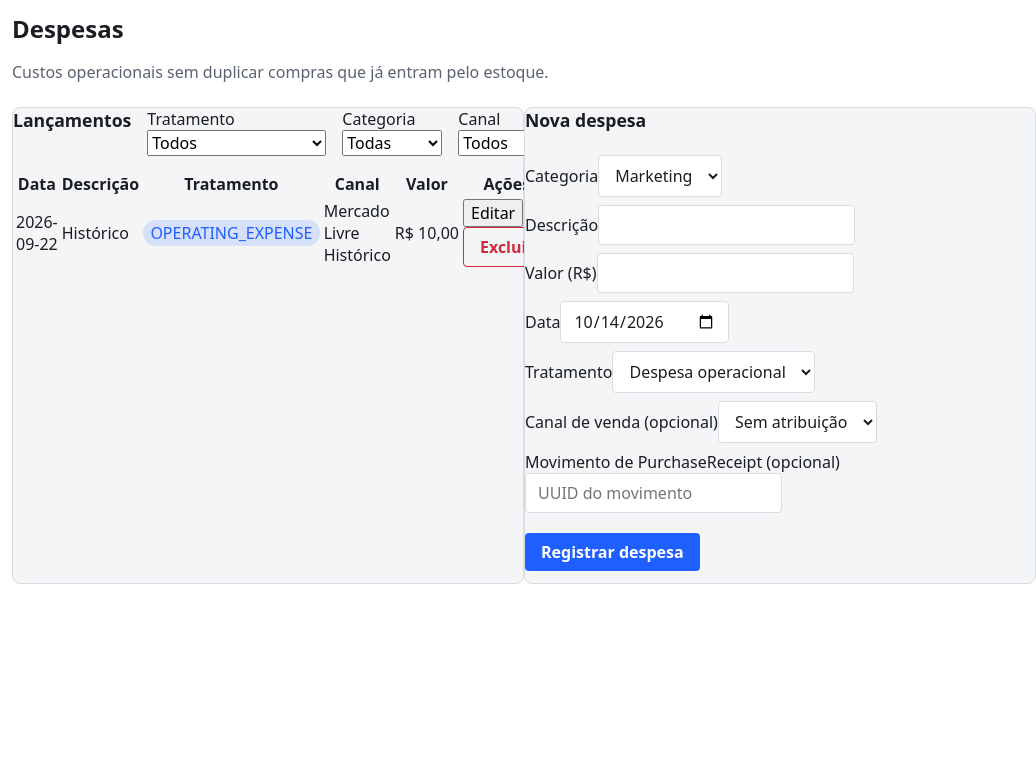
Scenario: edits an expense with its current version and refreshes the canonical row
Check: the text "Histórico" is shown, box [61,198,140,268]
Click the button "Editar" at {"x": 493, "y": 213}, box [463,199,523,227]
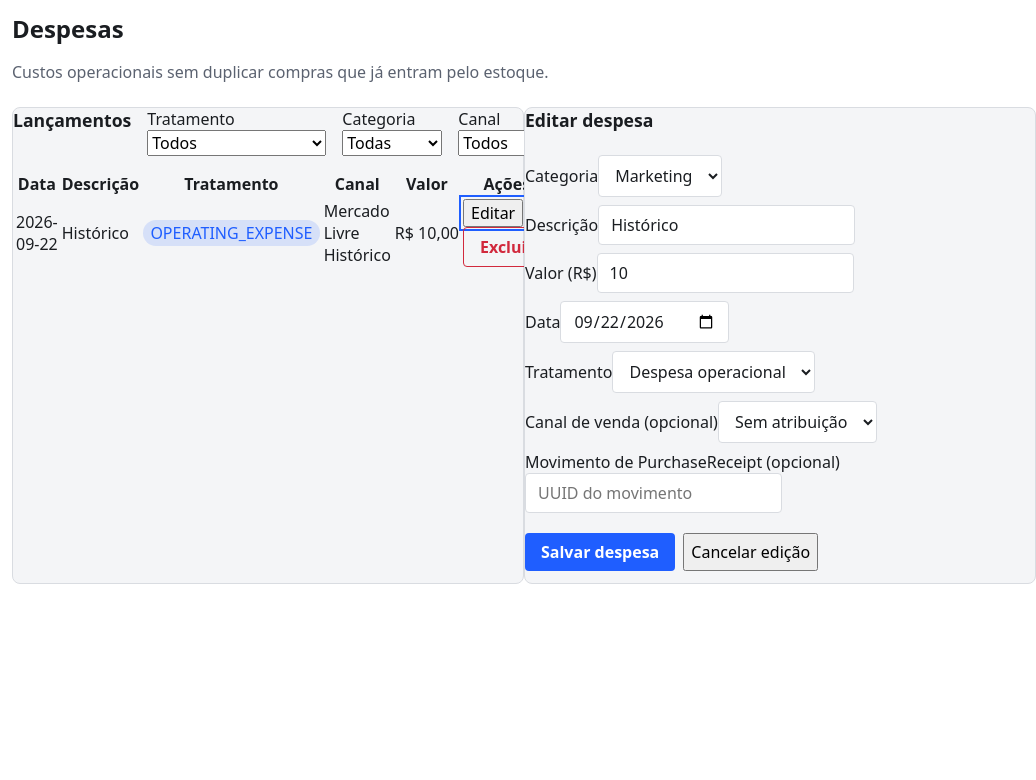
Replace the text in the field labelled "Descrição" with "Histórico corrigido" at {"x": 727, "y": 225}, box [598,205,855,245]
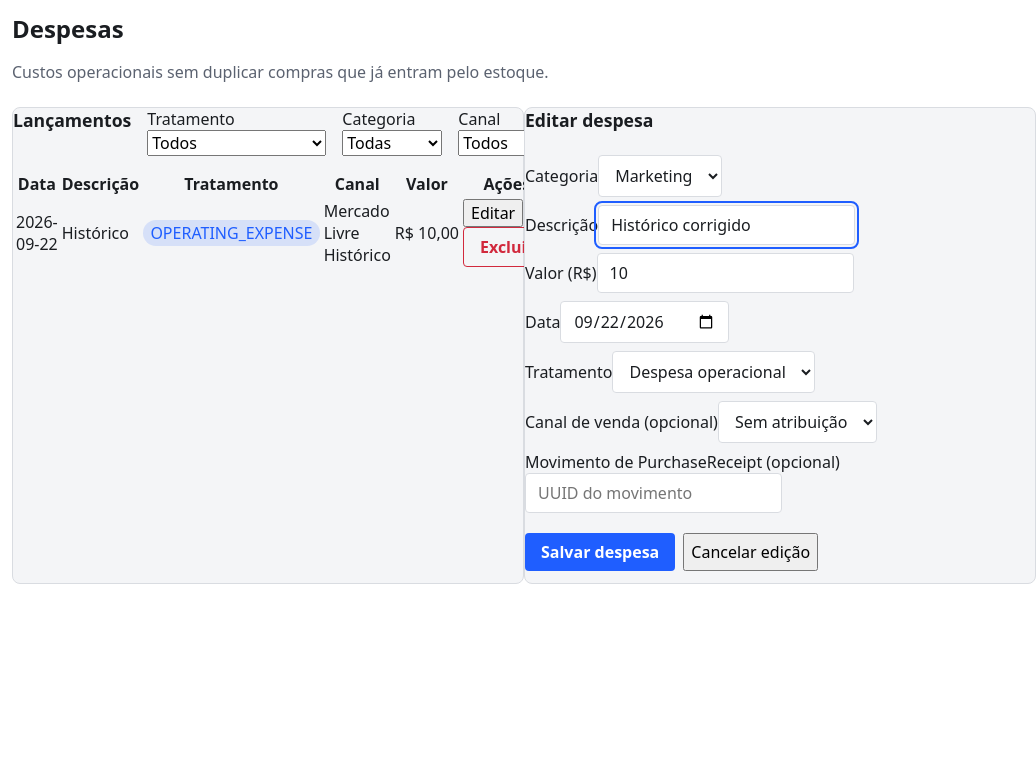
Click the button "Salvar despesa" at {"x": 600, "y": 552}, box [525,533,675,571]
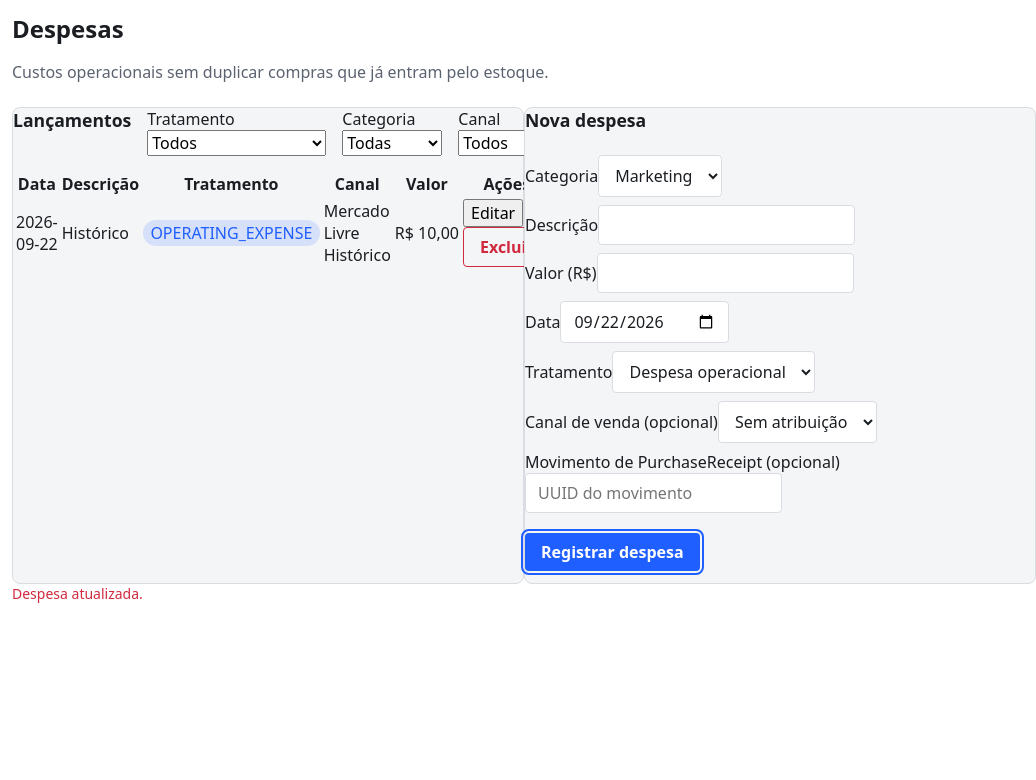
Check: the message reads "Despesa atualizada.", box [12,584,143,603]
